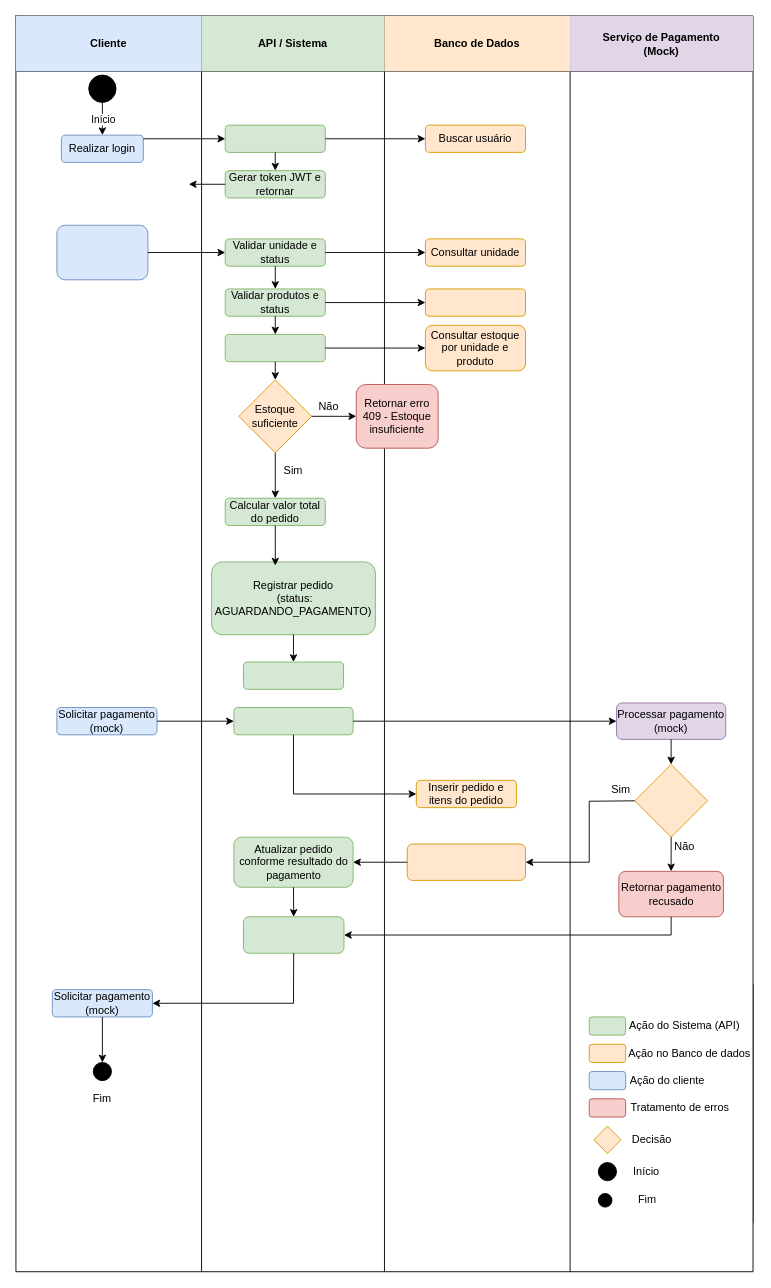
Some shapes in this 771 by 1288 pixel diagram are drawn without their labels. Here are the shapes that lost their labels. From the top down, the centre of each, then its label:
pixel 274 138: Validar credenciais
pixel 102 252: Criar pedido (informa unidade, canal e itens)
pixel 475 302: Consultar produtos
pixel 274 348: Validar estoque e itens
pixel 293 675: Baixar estoque
pixel 293 721: Enviar dados do pedido para pagamento (mock)
pixel 671 800: Pagamento Aprovado?
pixel 466 861: Atualizar estoque (deduzir quantidade)
pixel 293 934: Retornar resultado do pagamento
